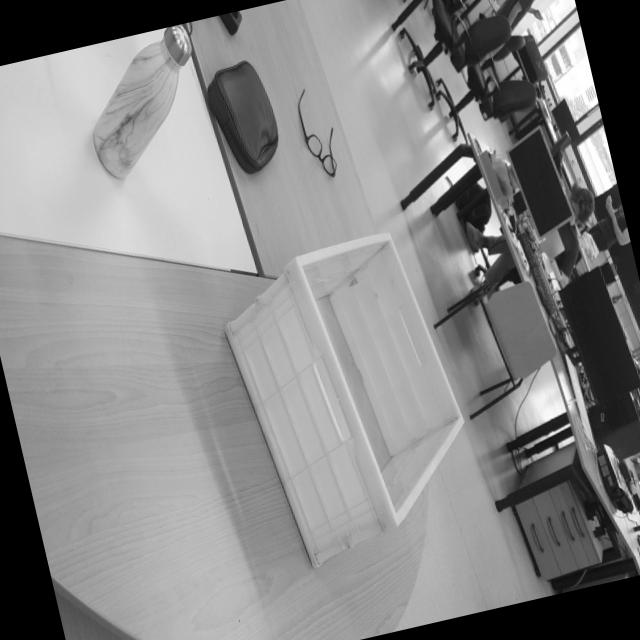box: (190, 204, 508, 606)
